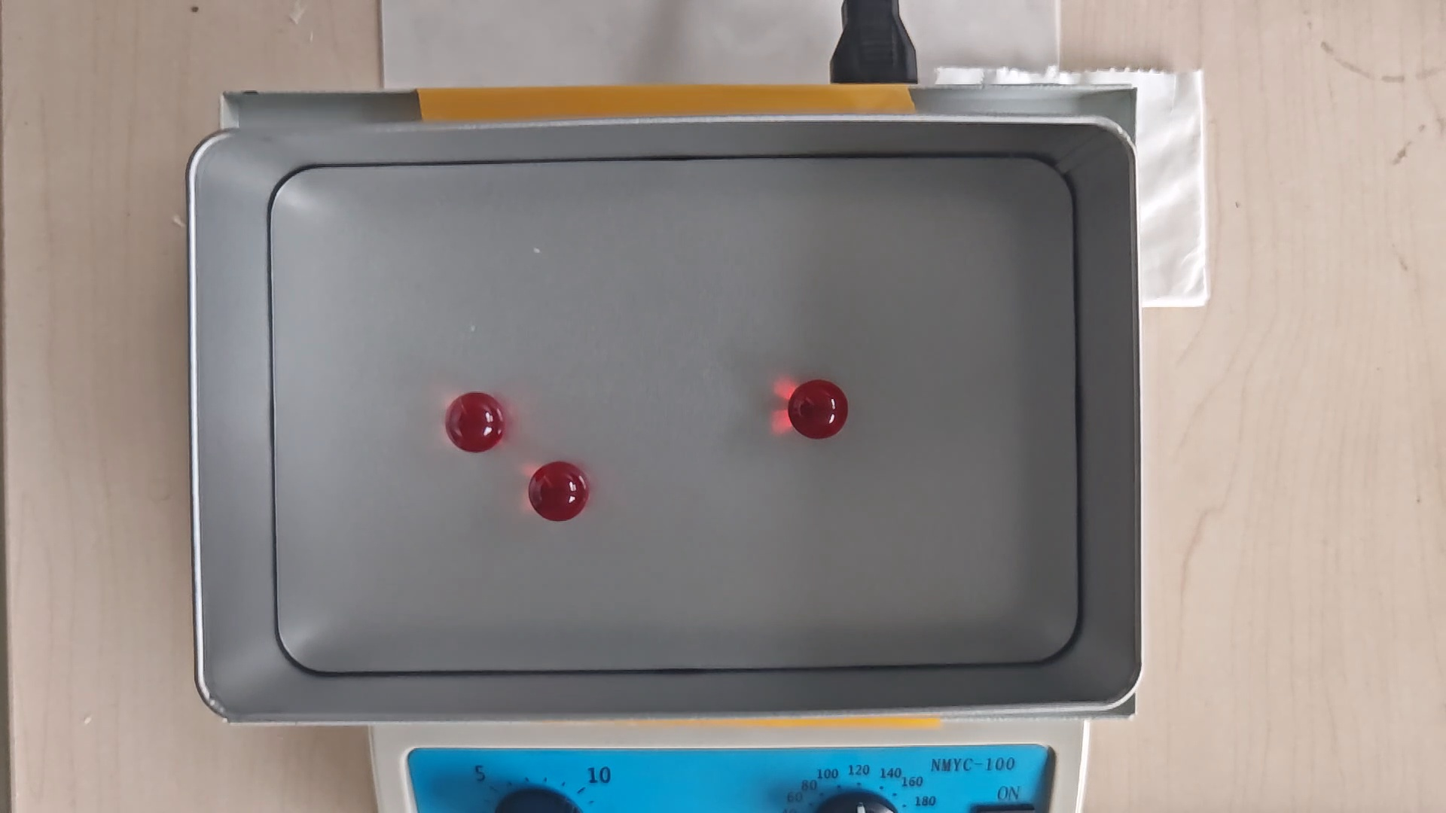ball: (446, 391, 507, 453), (528, 461, 589, 523), (789, 381, 849, 443)
container: (267, 161, 1082, 672)
